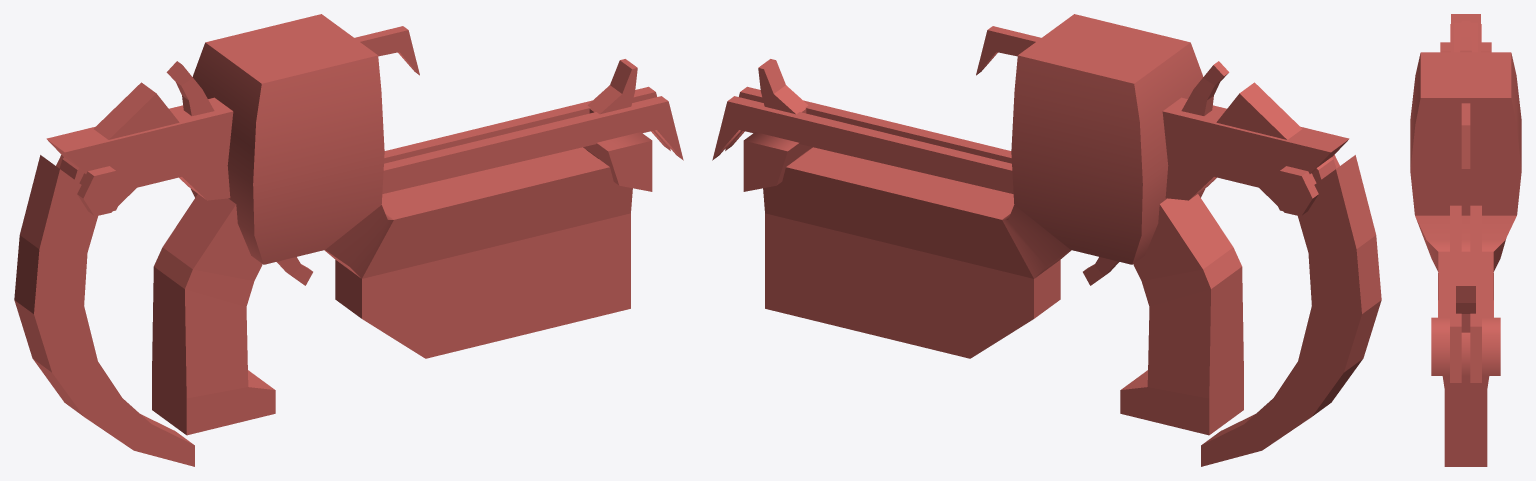
Rendered from Stinger.fbx.
3 renders of one model, left to right at view 1: azimuth 30°, elevation 25°; view 2: azimuth 150°, elevation 25°; view 3: azimuth 270°, elevation 25°, orthographic. The views are drawn at different scales.
Parts seen in each view (by area): view 1: Stinger; view 2: Stinger; view 3: Stinger.
Boxes of the visible parts, bbox=[...] form: Stinger: bbox=[14, 14, 683, 466]; Stinger: bbox=[712, 14, 1381, 466]; Stinger: bbox=[1410, 14, 1521, 466].
Bounding box in the file's own units: 52.77 × 30.91 × 9.77.
